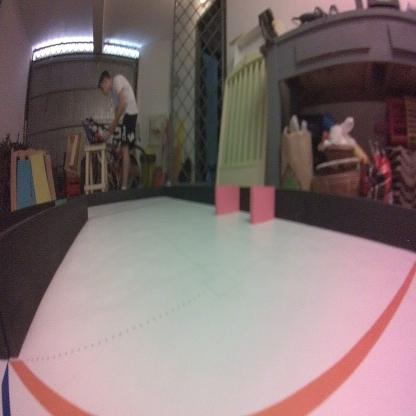magenta: (248, 185, 275, 224), (212, 183, 238, 213)
